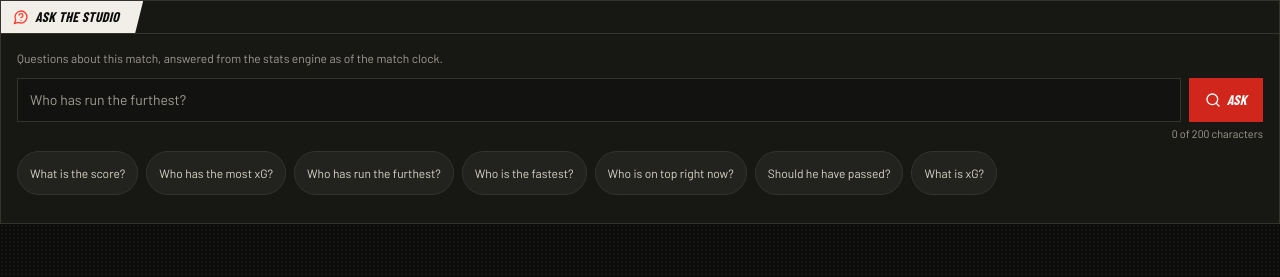
AskStudio › shows one plain sentence when the question cannot be answered
The image size is (1280, 277).
In the field named "Your question": (599, 100) [17,78,1181,122], type "who is fastest"
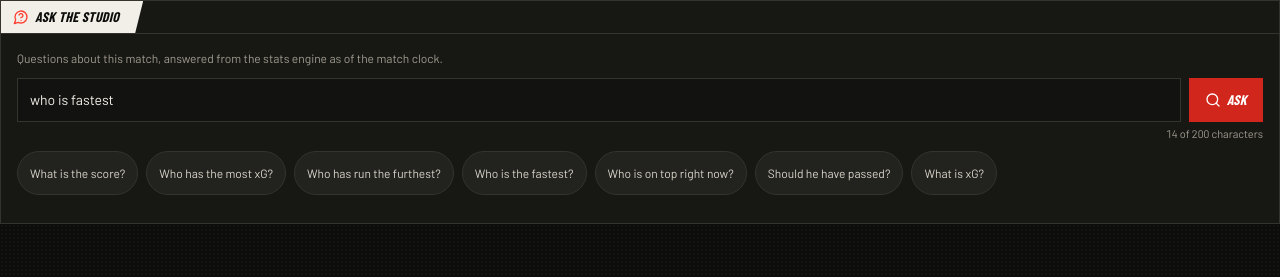
Click the button "Ask": (1226, 100) [1189,78,1263,122]
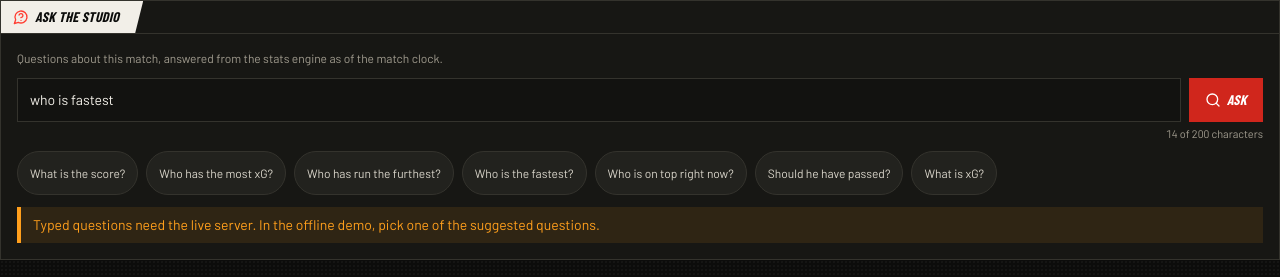
Check: the message shows "need the live server", box [33,216,600,232]
